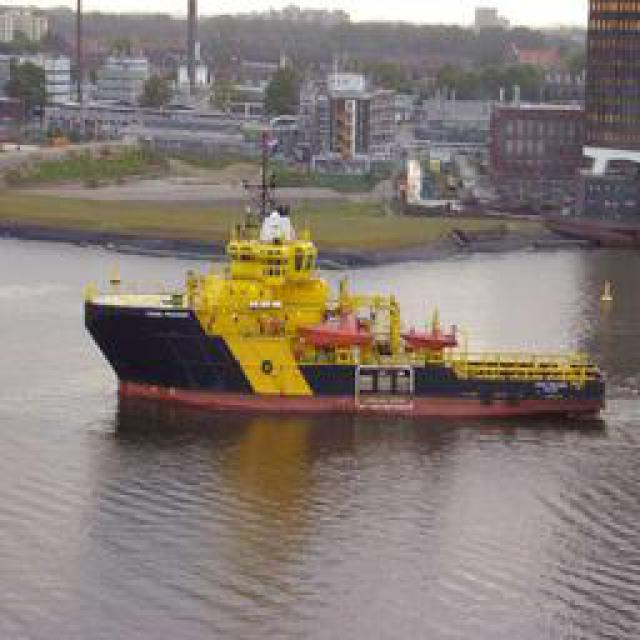Ship: (76, 214, 601, 419)
